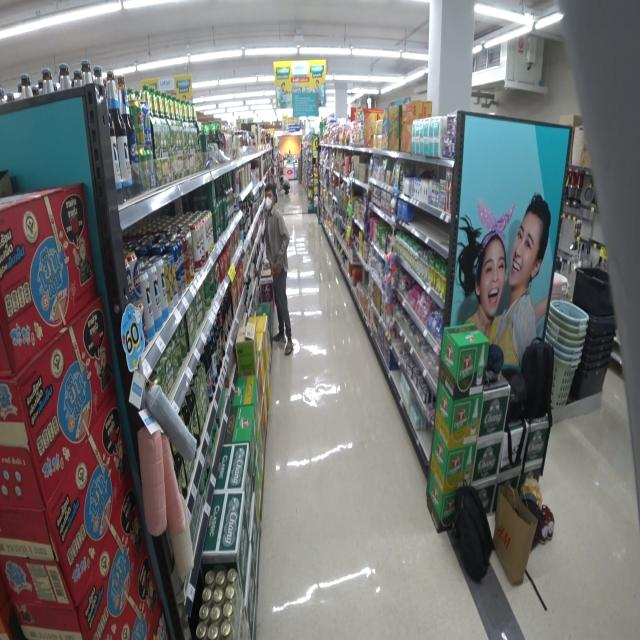shoplifting: (262, 188, 295, 358)
